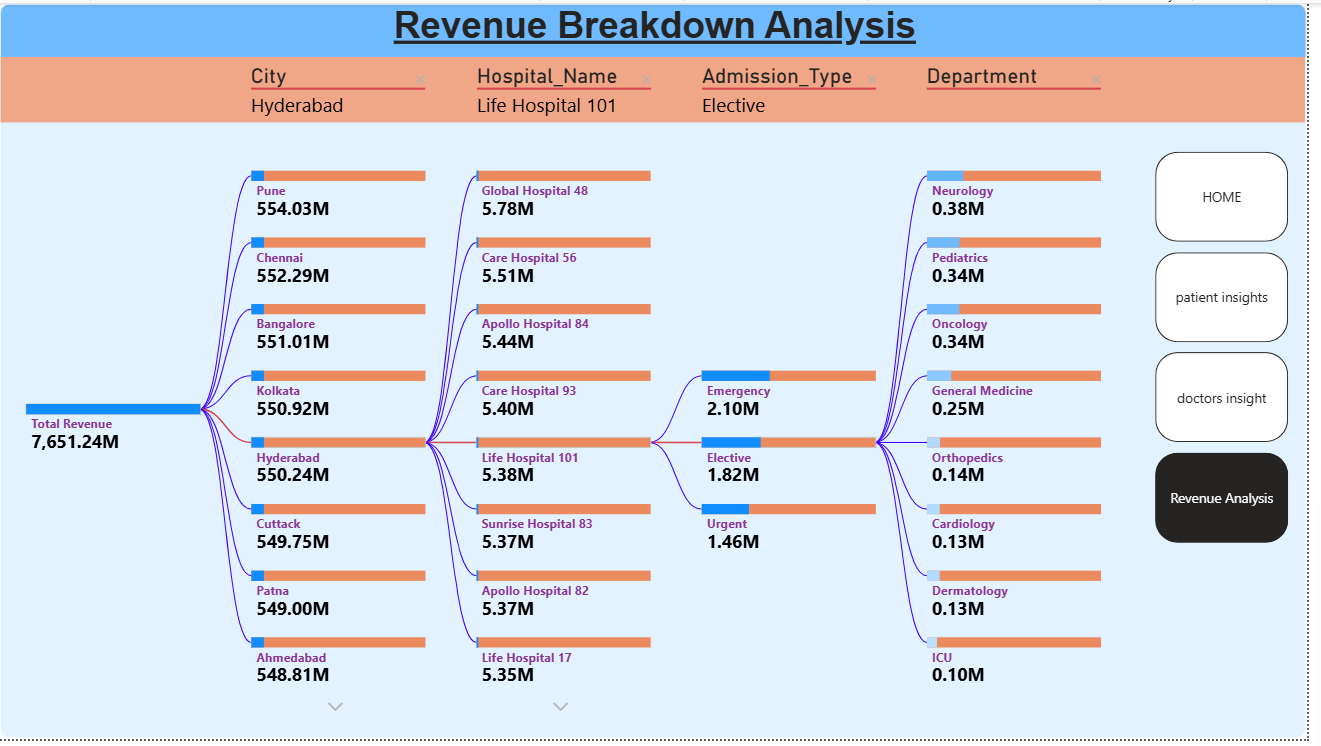

This screenshot's page, from the dashboard's own definition file:
{"tool":"powerbi","page":{"name":"Revenue Analysis","canvas":[1280,720],"ordinal":3},"visuals":[{"type":"decompositionTreeVisual","title":"Revenue Breakdown Analysis","fields":{"Analyze":["india_hospitals.Total Revenue"],"ExplainBy":["patients.City","india_hospitals.Hospital_Name","patients.Admission_Type","patients.Department"]},"box":[0,0,1280,720],"z":0},{"type":"pageNavigator","box":[1131.2,145,130,385],"z":2000}]}

Visuals, with their boxes in screenshot pixels (x1, y1, x2, y2), scaled from the page's 1280x720 canvas onto the 1321x746 screenshot:
"Revenue Breakdown Analysis" decompositionTreeVisual: 0, 0, 1320, 745
pageNavigator: 1167, 150, 1302, 549
